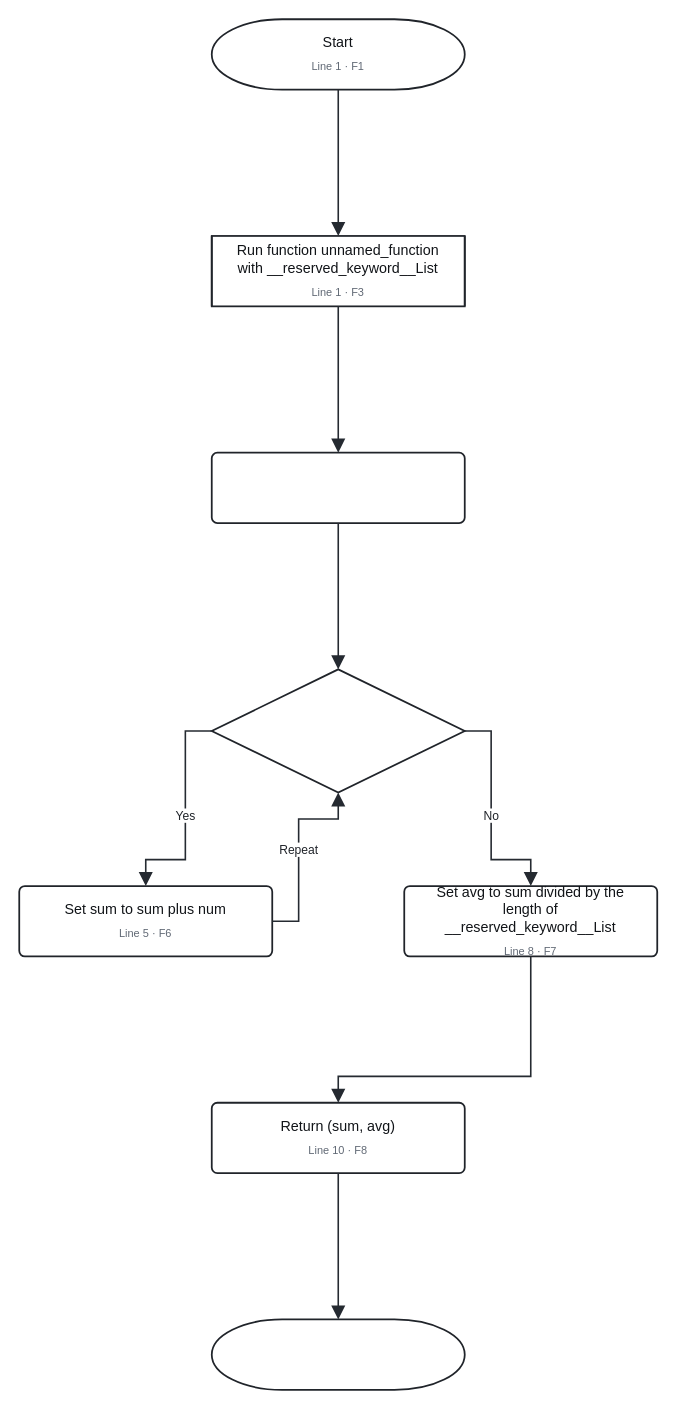
The diagram is 678 pixels wide and 1410 high, and some of its shapes have lost their labels. Here are the shapes that lost their labels. From the top down, the box of each, then its label:
(210, 451, 465, 523): Set sum to 0 Line 2 · F4
(210, 668, 465, 793): For each num in __reserved_keyword__List Line 4 · F5
(210, 1318, 465, 1390): End Line 1 · F2
